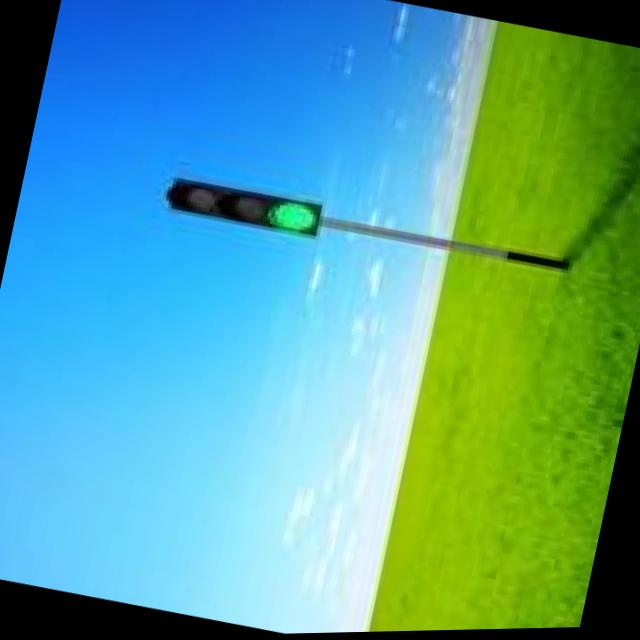green_light: (255, 176, 338, 295)
